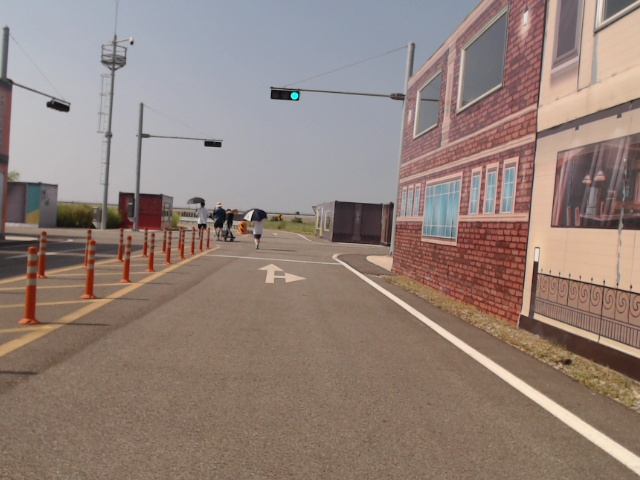green_3: (270, 90, 300, 101)
